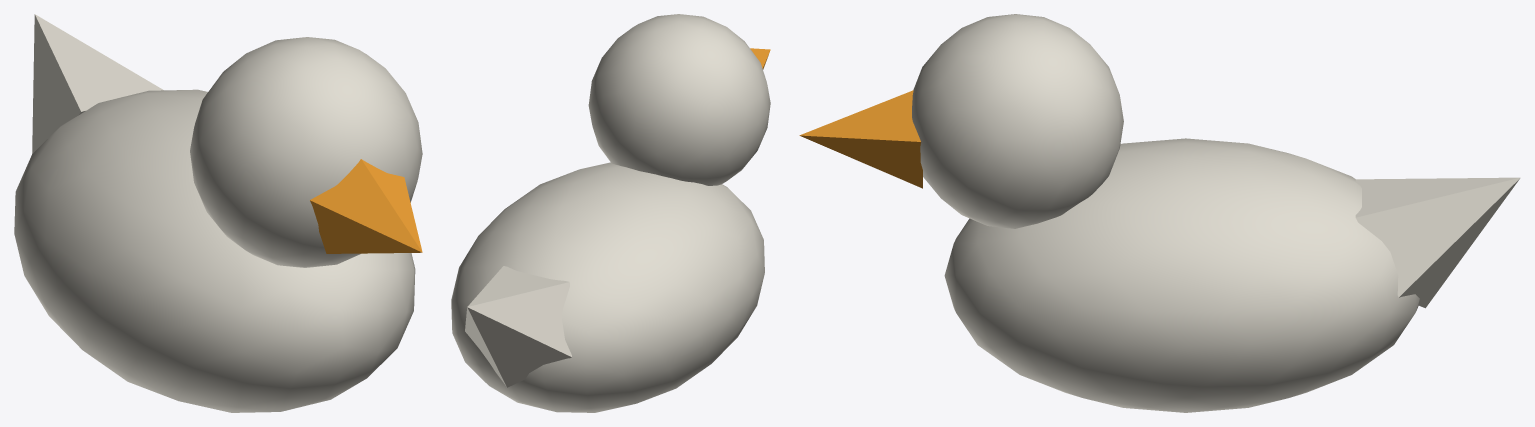
The model's file is duck.glb.
3 views of the same model, side by side, from view 1: azimuth 30°, elevation 25°; view 2: azimuth 150°, elevation 25°; view 3: azimuth 270°, elevation 25° (orthographic). The views are drawn at different scales.
Parts seen in each view (by area): view 1: duck; view 2: duck; view 3: duck.
Boxes of the visible parts, left/top/right/bottom form: duck: left=14, top=14, right=422, bottom=412; duck: left=451, top=14, right=770, bottom=412; duck: left=799, top=14, right=1520, bottom=412.
Size of the model in its own units: 0.216 by 0.264 by 0.4666.
